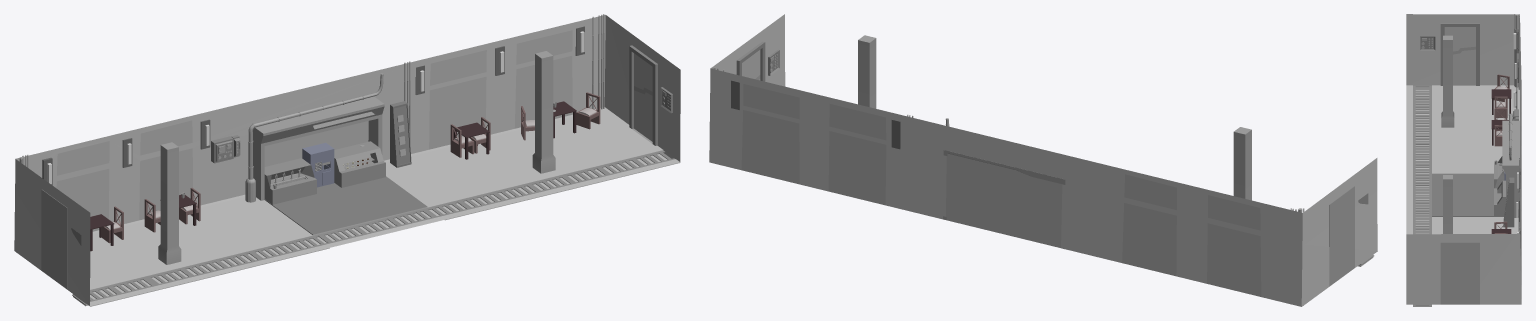
File: Hallway 2.fbx
3 renders of one model, left to right at view 1: azimuth 30°, elevation 25°; view 2: azimuth 150°, elevation 25°; view 3: azimuth 270°, elevation 25°, orthographic. The views are drawn at different scales.
Visible parts, largest first — view 1: pasted__pasted__pCube1, pCube2, pasted__pasted__pasted__group94_pasted__pasted__pasted__pCub (×2), pasted__pasted__pasted__pCube5, pCube27, pasted__pCube27, pasted__pasted__pCube5, pCube3, pasted__pCube3, pasted__group94_pasted__pasted__pasted__pCube26, pCylinder10, pCube18 (+7 smaller); view 2: pasted__pasted__pCube1, pasted__pasted__pCube5, pasted__pCube27, pCube27, pasted__pasted__pasted__pCube5, pCube2; view 3: pasted__pasted__pCube1, pasted__pasted__pasted__pCube5, pasted__pasted__pCube5, pasted__pasted__pasted__group94_pasted__pasted__pasted__pCub (×2), pCube2, pCube27, pasted__group94_pasted__pasted__pasted__pCube26, pasted__pCube27, pasted__pasted__pCube11 (×3), pasted__pCube26, pCube18, pasted__pCube14 (×2) (+10 smaller).
Boxes of the visible parts, <box> form: pasted__pasted__pCube1: <box>14,15,680,306</box>; pCube2: <box>253,96,384,200</box>; pasted__pasted__pasted__group94_pasted__pasted__pasted__pCub (×2): <box>286,175,574,251</box>; pasted__pasted__pasted__pCube5: <box>629,45,657,145</box>; pCube27: <box>158,142,181,264</box>; pasted__pCube27: <box>532,51,555,173</box>; pasted__pasted__pCube5: <box>41,189,67,289</box>; pCube3: <box>264,158,316,204</box>; pasted__pCube3: <box>334,141,385,187</box>; pasted__group94_pasted__pasted__pasted__pCube26: <box>145,242,297,285</box>; pCylinder10: <box>245,73,383,202</box>; pCube18: <box>390,101,411,167</box>; pasted__pasted__pCube1: <box>709,14,1377,306</box>; pasted__pasted__pCube5: <box>1329,186,1354,286</box>; pasted__pCube27: <box>858,35,876,108</box>; pCube27: <box>1233,127,1251,200</box>; pasted__pasted__pasted__pCube5: <box>736,41,765,81</box>; pCube2: <box>943,150,1065,219</box>; pasted__pasted__pCube1: <box>1406,14,1521,306</box>; pasted__pasted__pasted__pCube5: <box>1440,242,1479,304</box>; pasted__pasted__pCube5: <box>1440,23,1479,85</box>; pasted__pasted__pasted__group94_pasted__pasted__pasted__pCub (×2): <box>1413,164,1431,234</box>; pCube2: <box>1502,120,1519,217</box>; pCube27: <box>1441,35,1454,127</box>; pasted__group94_pasted__pasted__pasted__pCube26: <box>1413,112,1431,164</box>; pasted__pCube27: <box>1443,175,1452,233</box>; pasted__pasted__pCube11 (×3): <box>1494,96,1507,146</box>; pasted__pCube26: <box>1413,85,1431,111</box>; pCube18: <box>1503,177,1514,227</box>; pasted__pCube14 (×2): <box>1491,89,1511,145</box>.
Bounding box in the file's own units: 40.34 × 7.64 × 8.93.
